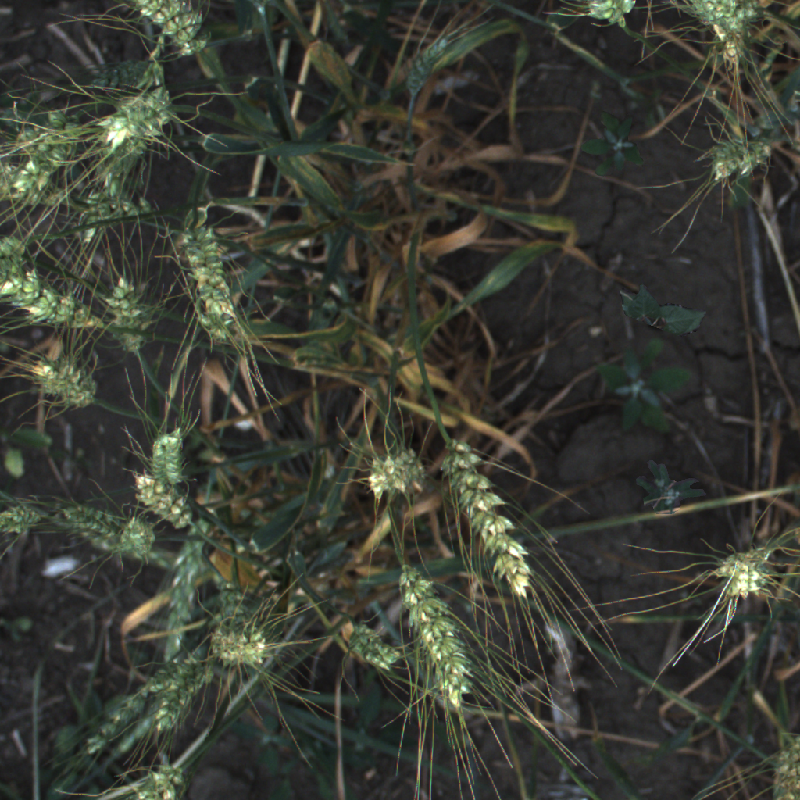spikelet: (435, 429, 542, 610), (394, 560, 475, 707), (175, 226, 246, 342), (8, 115, 84, 201), (1, 267, 102, 330), (110, 1, 220, 57), (122, 460, 204, 534), (153, 654, 222, 739), (681, 1, 758, 73), (78, 682, 149, 756), (165, 521, 203, 657), (139, 414, 200, 496), (100, 85, 172, 149), (100, 275, 157, 353), (31, 353, 100, 407), (57, 491, 122, 546), (205, 617, 271, 671), (1, 160, 71, 208), (714, 546, 772, 602), (705, 135, 773, 181), (346, 620, 402, 672), (120, 764, 200, 800), (142, 650, 201, 696), (73, 191, 150, 226), (406, 40, 452, 96), (214, 576, 253, 641), (765, 729, 800, 800), (87, 56, 153, 92), (1, 490, 48, 539), (382, 447, 424, 500), (110, 517, 164, 558), (581, 1, 641, 35), (1, 232, 39, 283), (363, 458, 403, 493)
weed: (602, 348, 690, 439), (612, 277, 709, 343), (630, 445, 709, 522), (576, 105, 652, 183)
